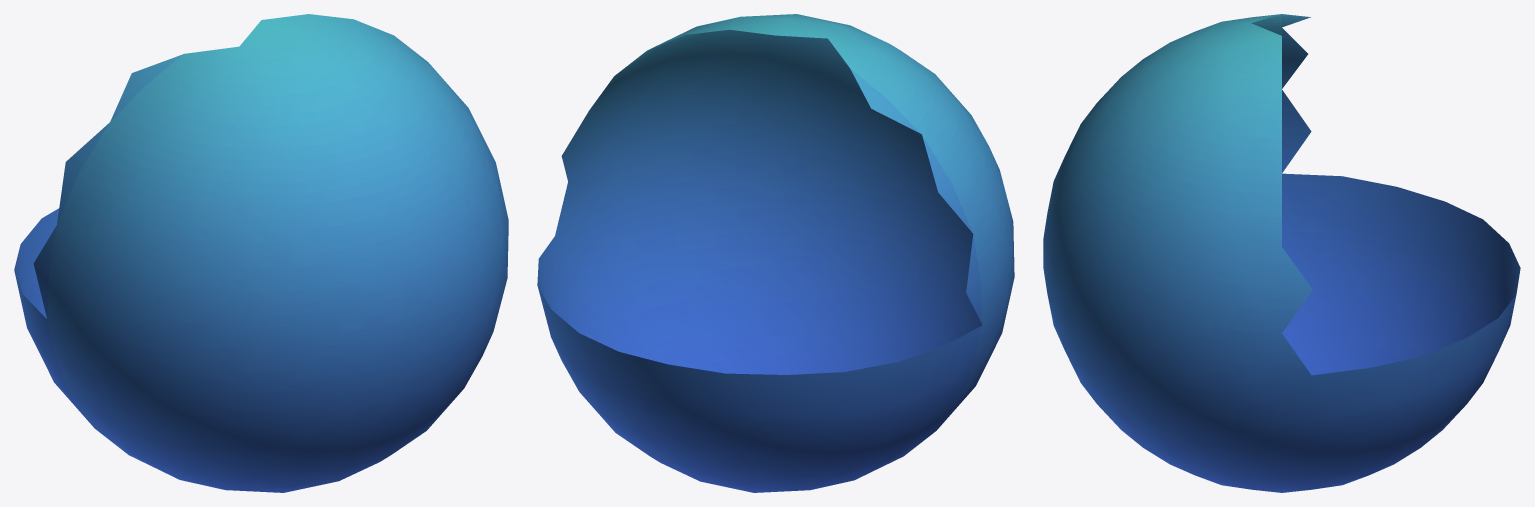
The model's file is Skybox_001.FBX.
3 renders of one model, left to right at view 1: azimuth 30°, elevation 25°; view 2: azimuth 150°, elevation 25°; view 3: azimuth 270°, elevation 25°, orthographic. The views are drawn at different scales.
Parts seen in each view (by area): view 1: GeoSphere005; view 2: GeoSphere005; view 3: GeoSphere005.
Part boxes in pixels (bbox=[...]): GeoSphere005: bbox=[14, 14, 508, 492]; GeoSphere005: bbox=[537, 14, 1014, 492]; GeoSphere005: bbox=[1043, 14, 1520, 492].
Bounding box in the file's own units: 111 × 111 × 110.
